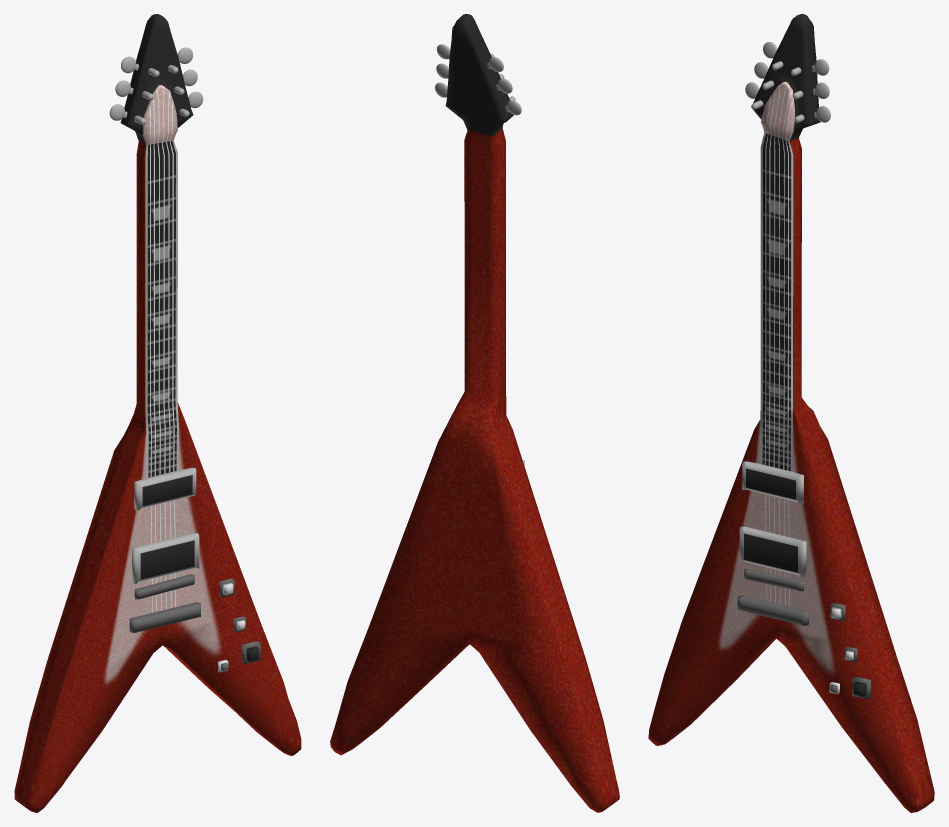
The model's file is guitarV.glb.
3 renders of one model, left to right at view 1: azimuth 30°, elevation 25°; view 2: azimuth 150°, elevation 25°; view 3: azimuth 330°, elevation 25°, orthographic.
Visible parts, largest first — view 1: Guitar; view 2: Guitar; view 3: Guitar.
Part boxes in pixels (left/top/right/bottom): Guitar: left=14, top=14, right=301, bottom=812; Guitar: left=330, top=14, right=619, bottom=812; Guitar: left=648, top=14, right=934, bottom=812.
Bounding box in the file's own units: 0.8597 × 2.28 × 0.1413.
Materials: 1 (1 with a texture image).
